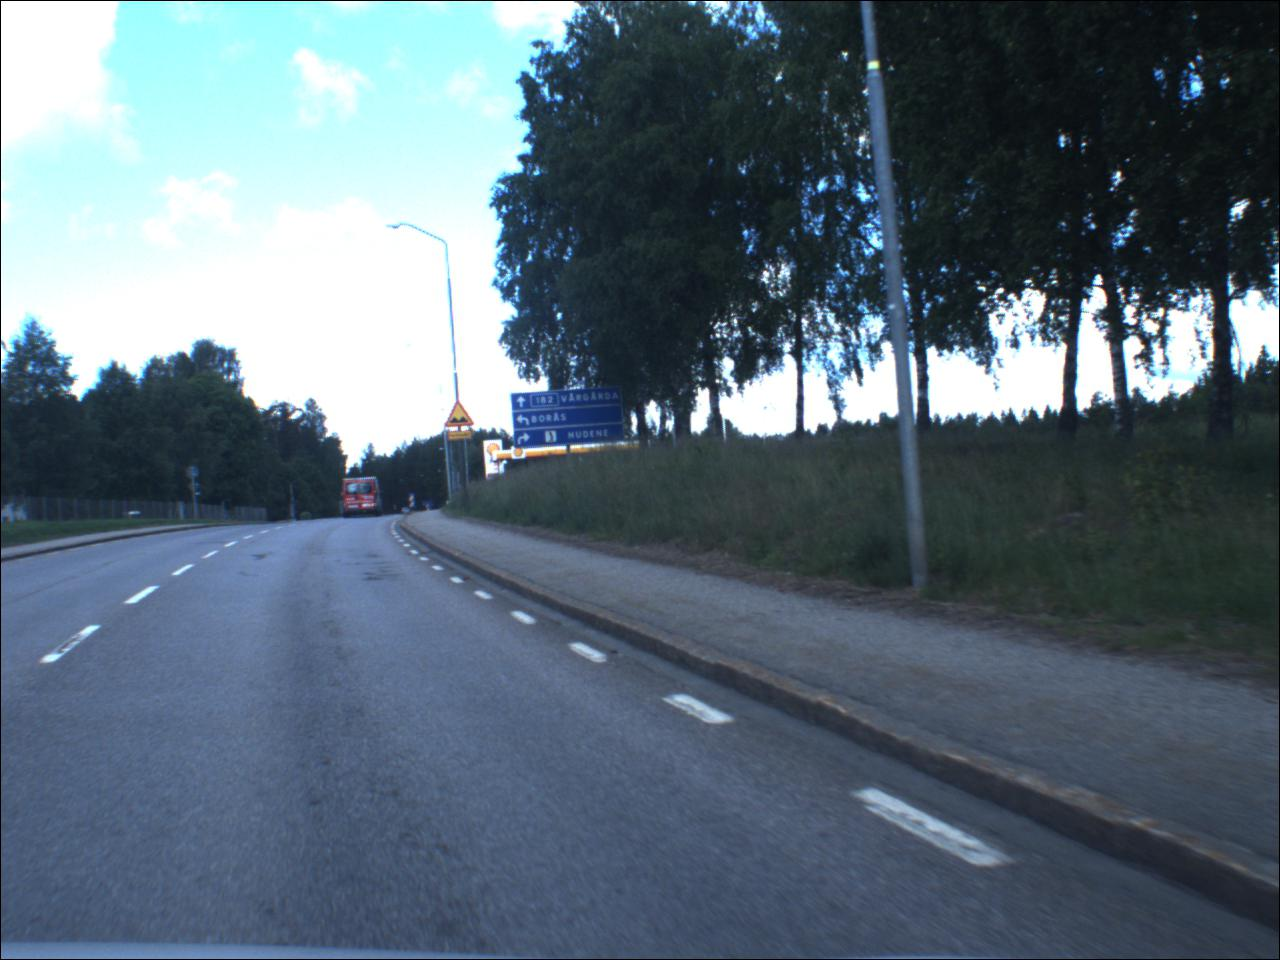WARNING_BAD_ROAD: (447, 404, 477, 429)
